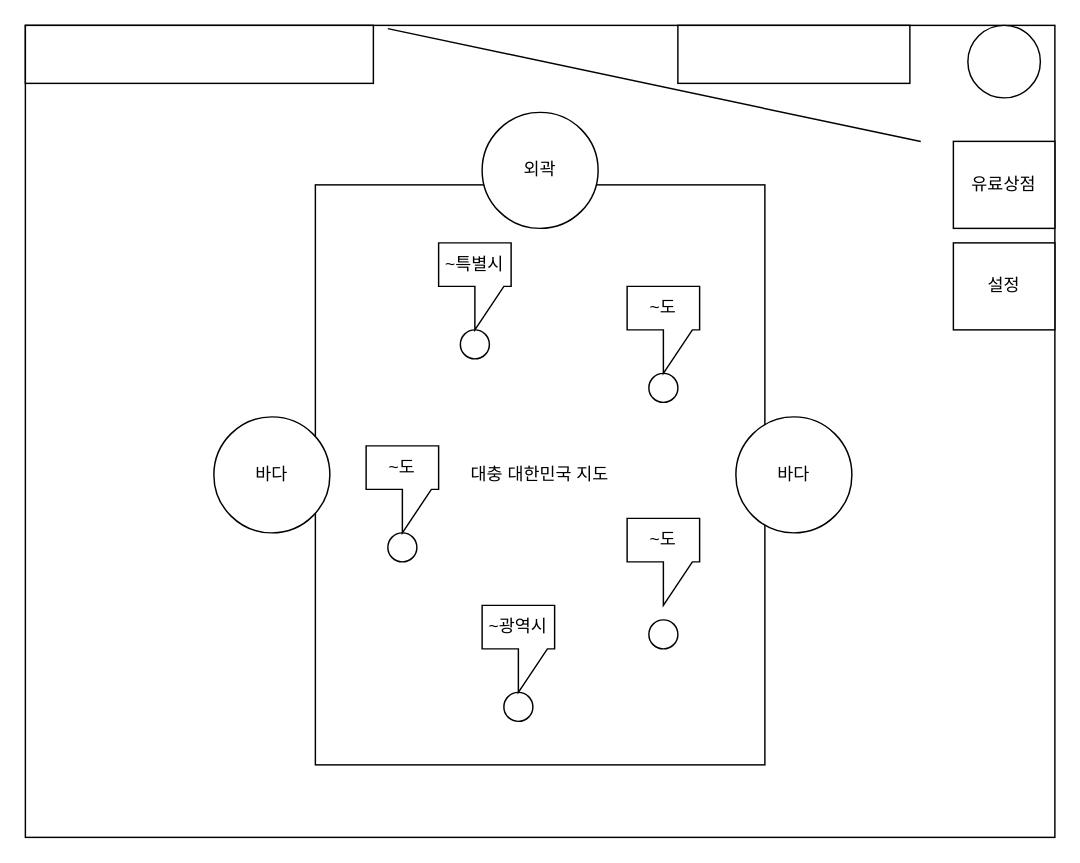
This 1080x863 diagram has some shape labels left out. Each missing label, with the centre of its shape:
"골드 재화(무료)/유료재화(유료)" goes at point (793, 53).
"요원 프로젝트 내 가상 시간" goes at point (198, 53).
"프로필" goes at point (1003, 61).
